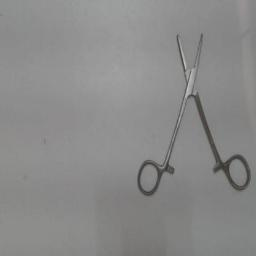Mayo Needle Holder: (134, 26, 254, 200)
